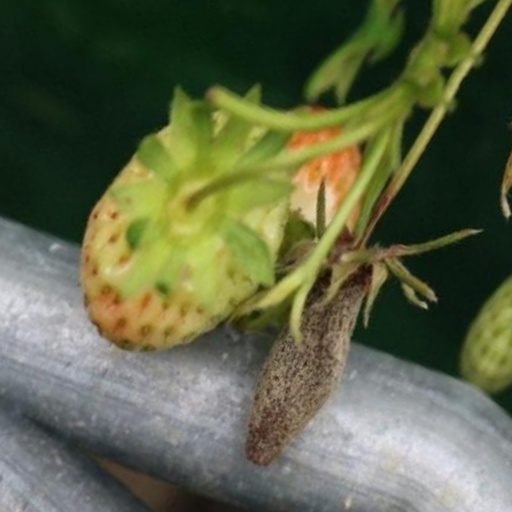Gray Mold: (314, 189, 393, 437)
